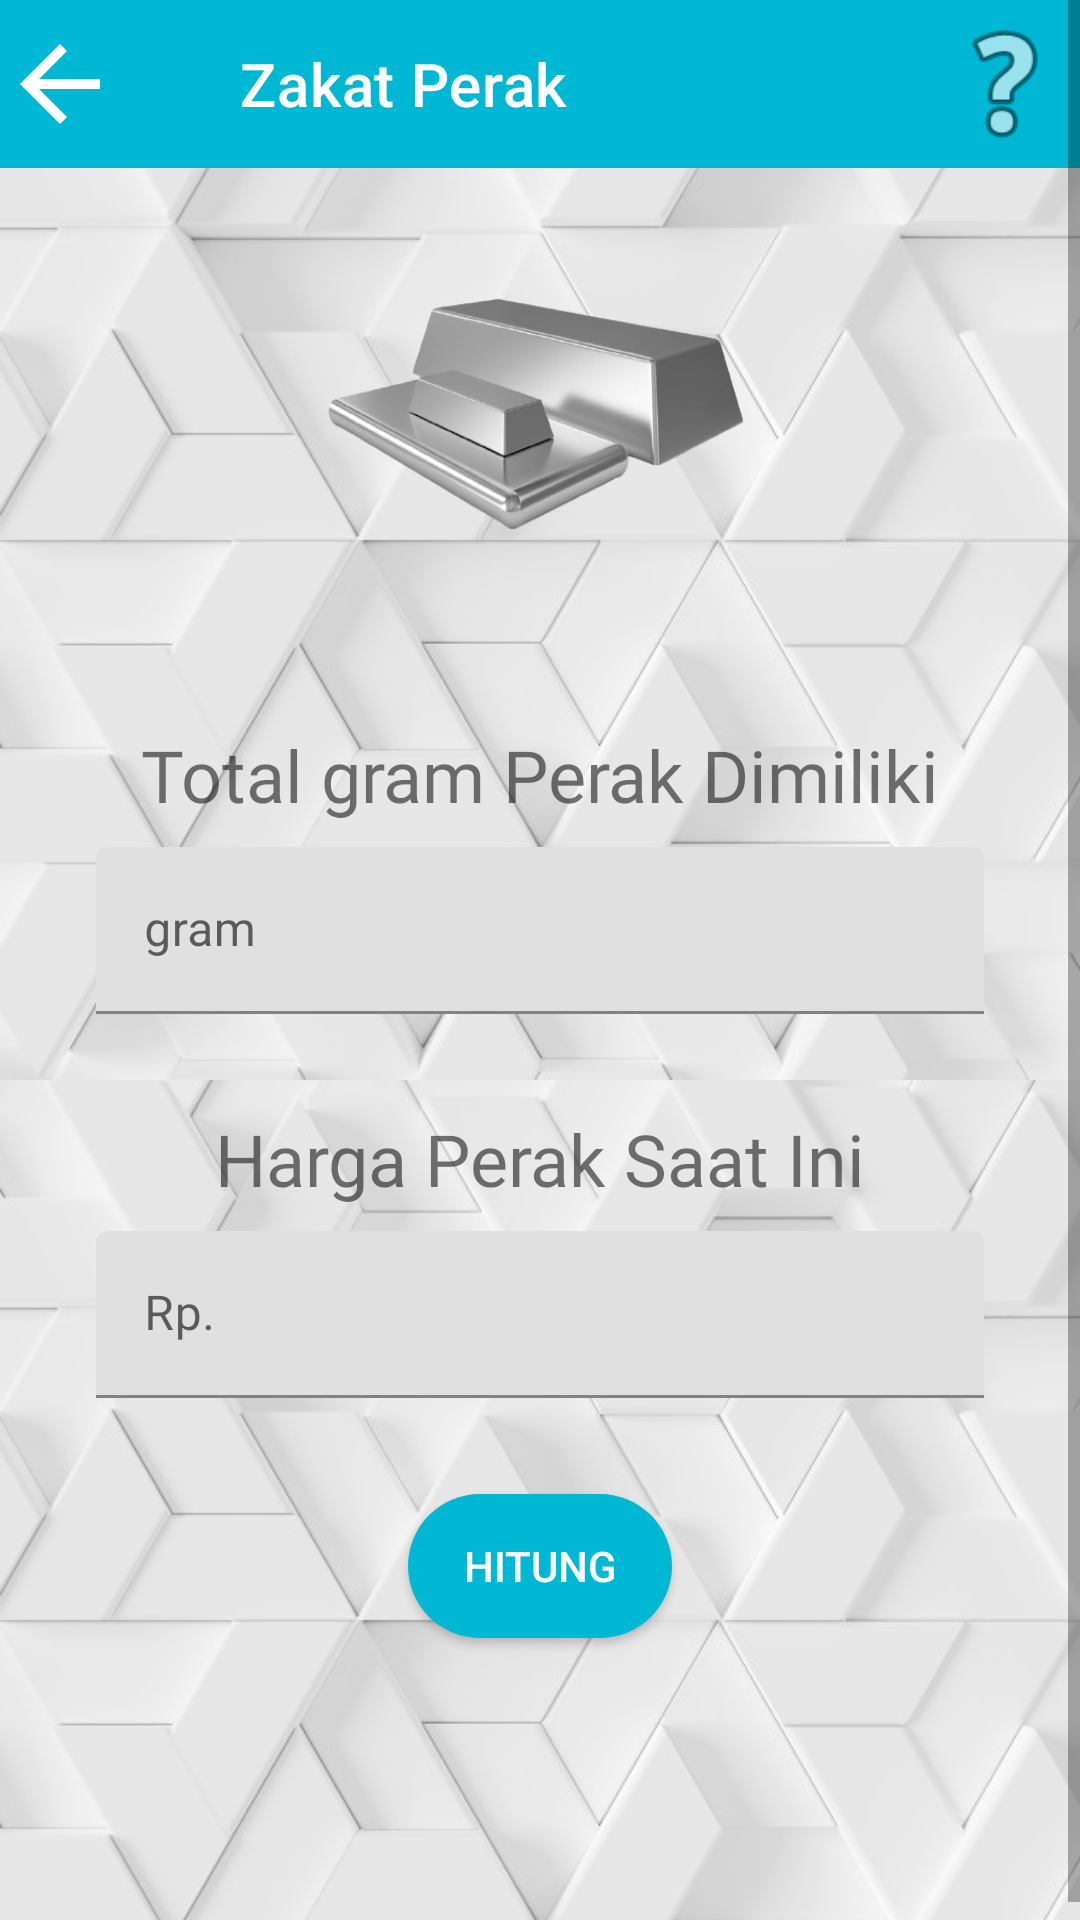

Locate icon controls on the screen. Image size 1080 × 1920, boxes as Rect(x1, y1, x2, y2).
help: Rect(972, 30, 1038, 138)
